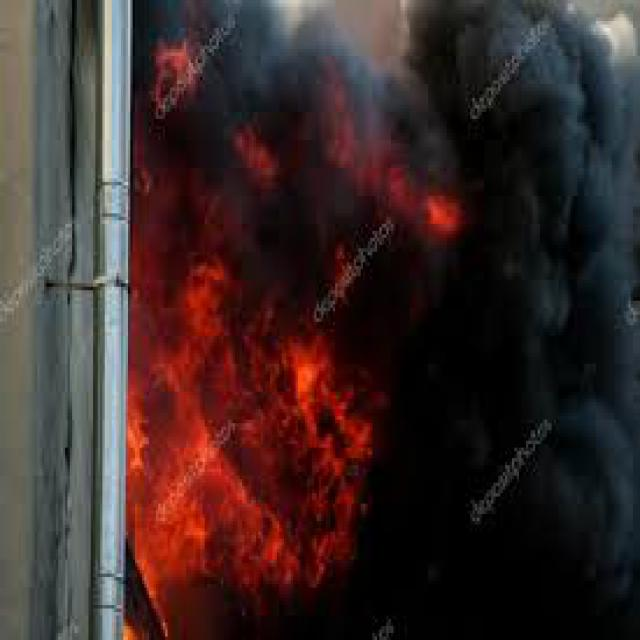fire: (142, 308, 275, 616)
smoke: (179, 39, 638, 318), (340, 336, 617, 636)
